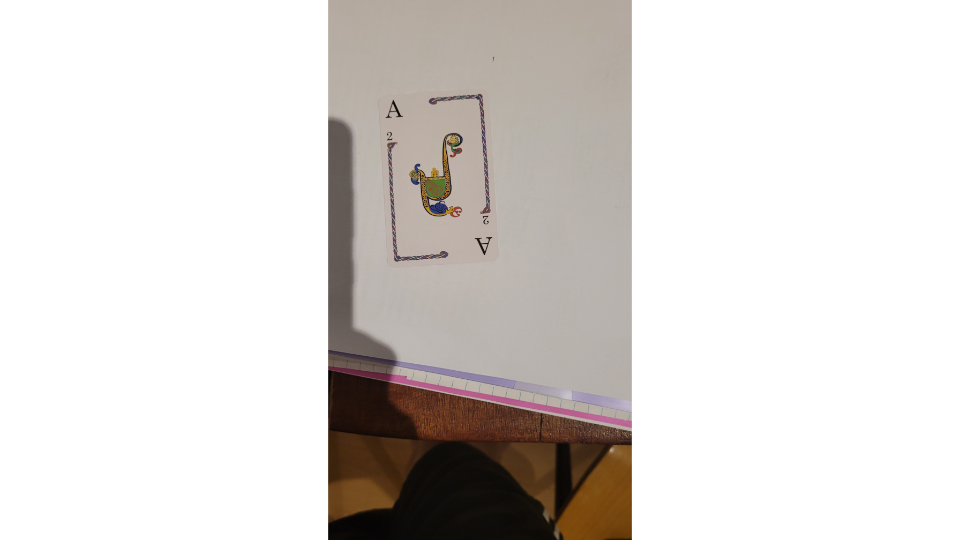A: (375, 87, 506, 272)
